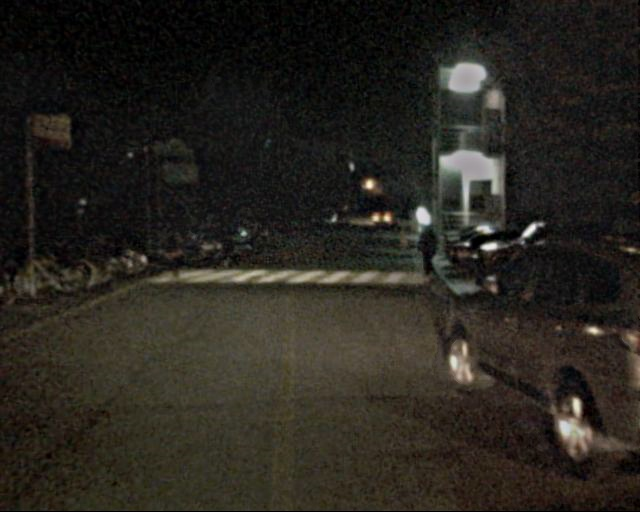person: (411, 222, 437, 286), (155, 221, 180, 281), (208, 214, 229, 265)
